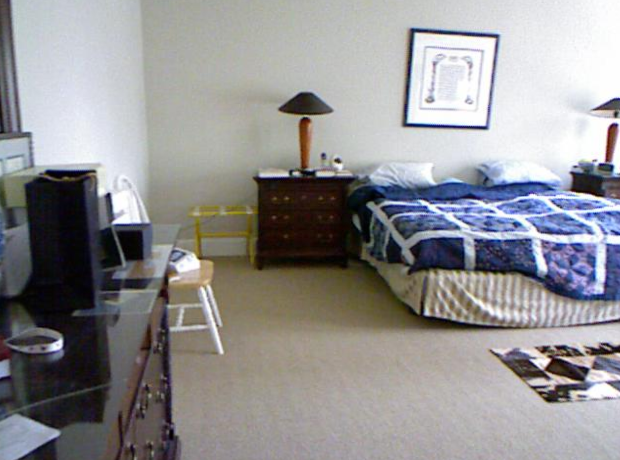cabinet: (0, 243, 178, 460), (254, 171, 353, 270), (571, 170, 620, 194)
cabinetDoor: (304, 189, 338, 209), (264, 209, 298, 229), (306, 209, 340, 229), (304, 231, 338, 251), (267, 230, 300, 250), (264, 189, 298, 208)
chair: (170, 258, 229, 355), (195, 204, 255, 256)
